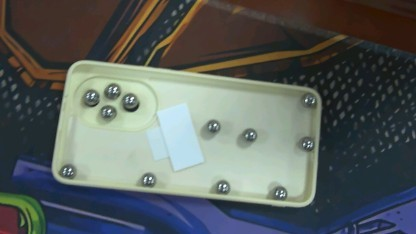ironball: (100, 78, 122, 100), (202, 115, 223, 137), (239, 124, 259, 144), (79, 84, 98, 104), (57, 162, 76, 181), (213, 179, 234, 195), (120, 91, 138, 109), (269, 184, 288, 201), (299, 134, 316, 152), (97, 104, 116, 120), (139, 171, 156, 188), (301, 88, 315, 107)
